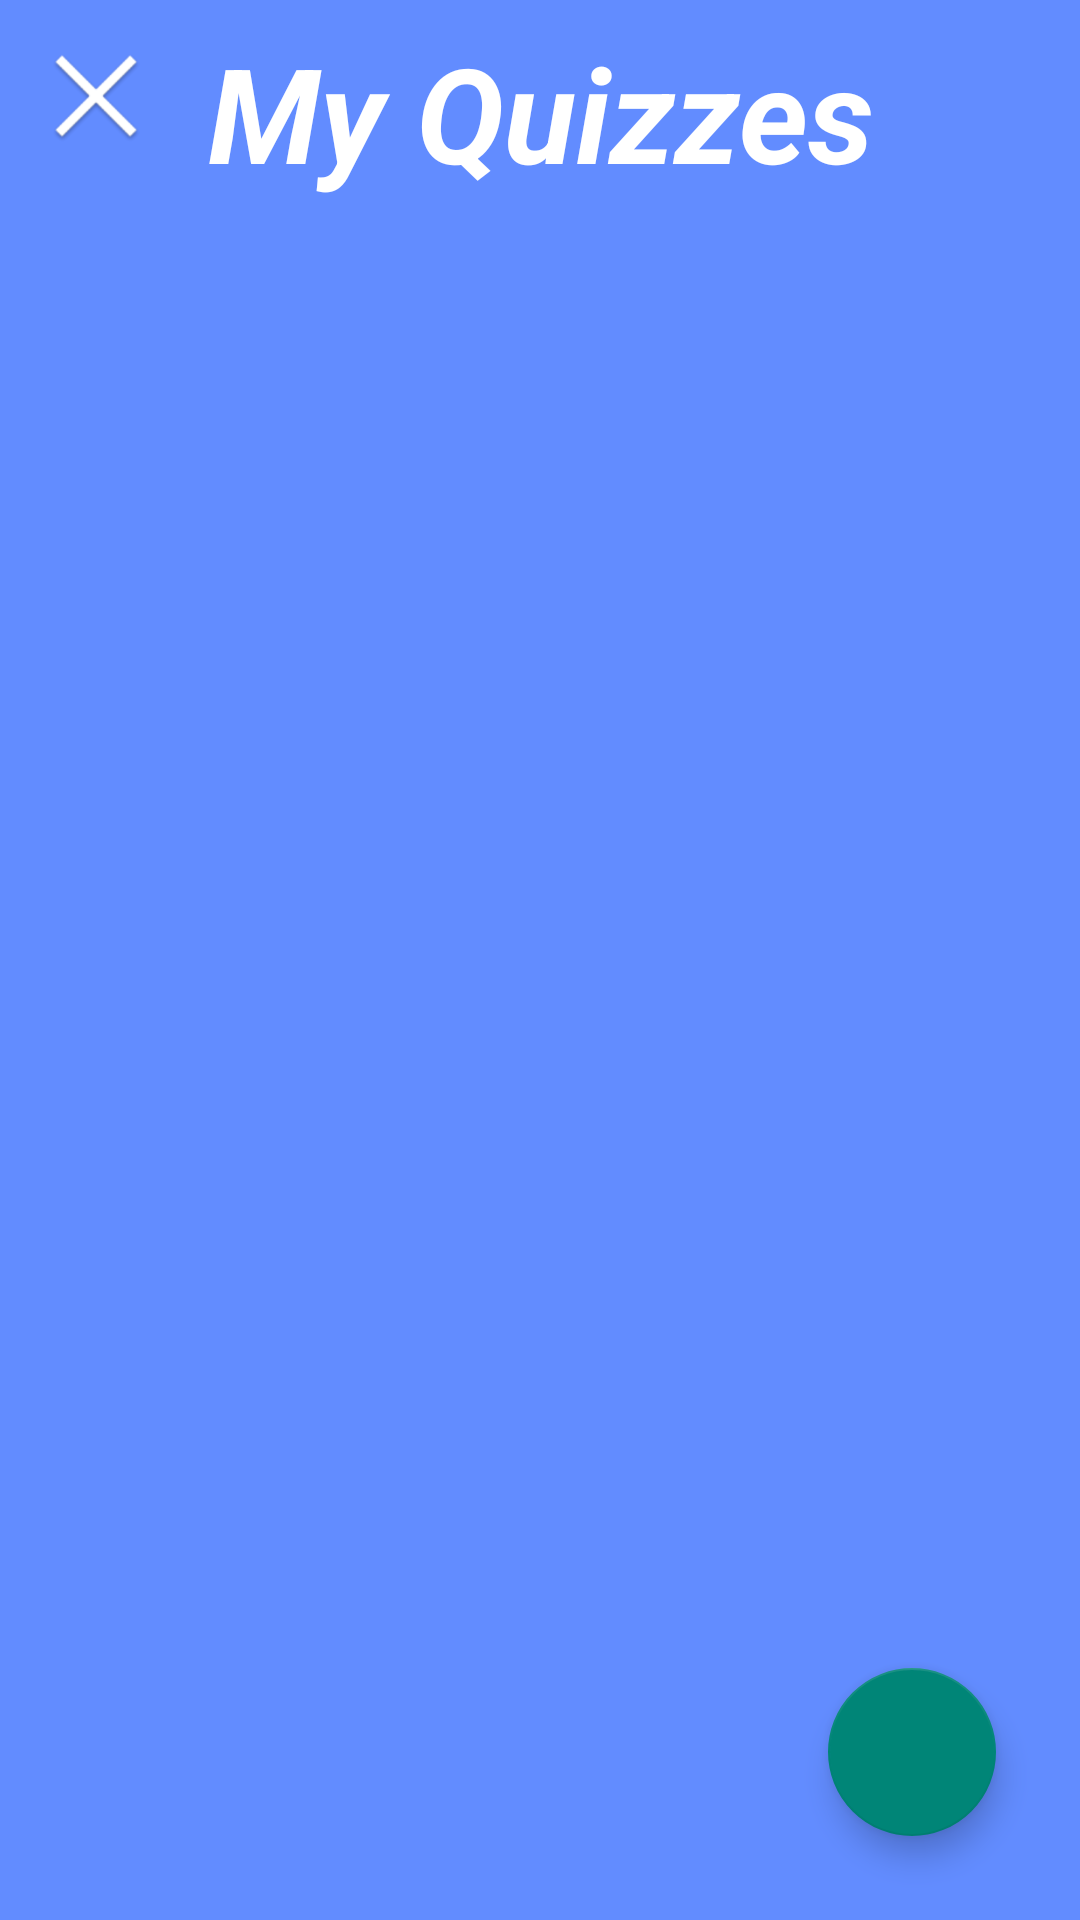

Screen size 1080×1920. Icon name, then its box in pixels as (x1, y1, x2, y2):
exit: (55, 55, 137, 138)
